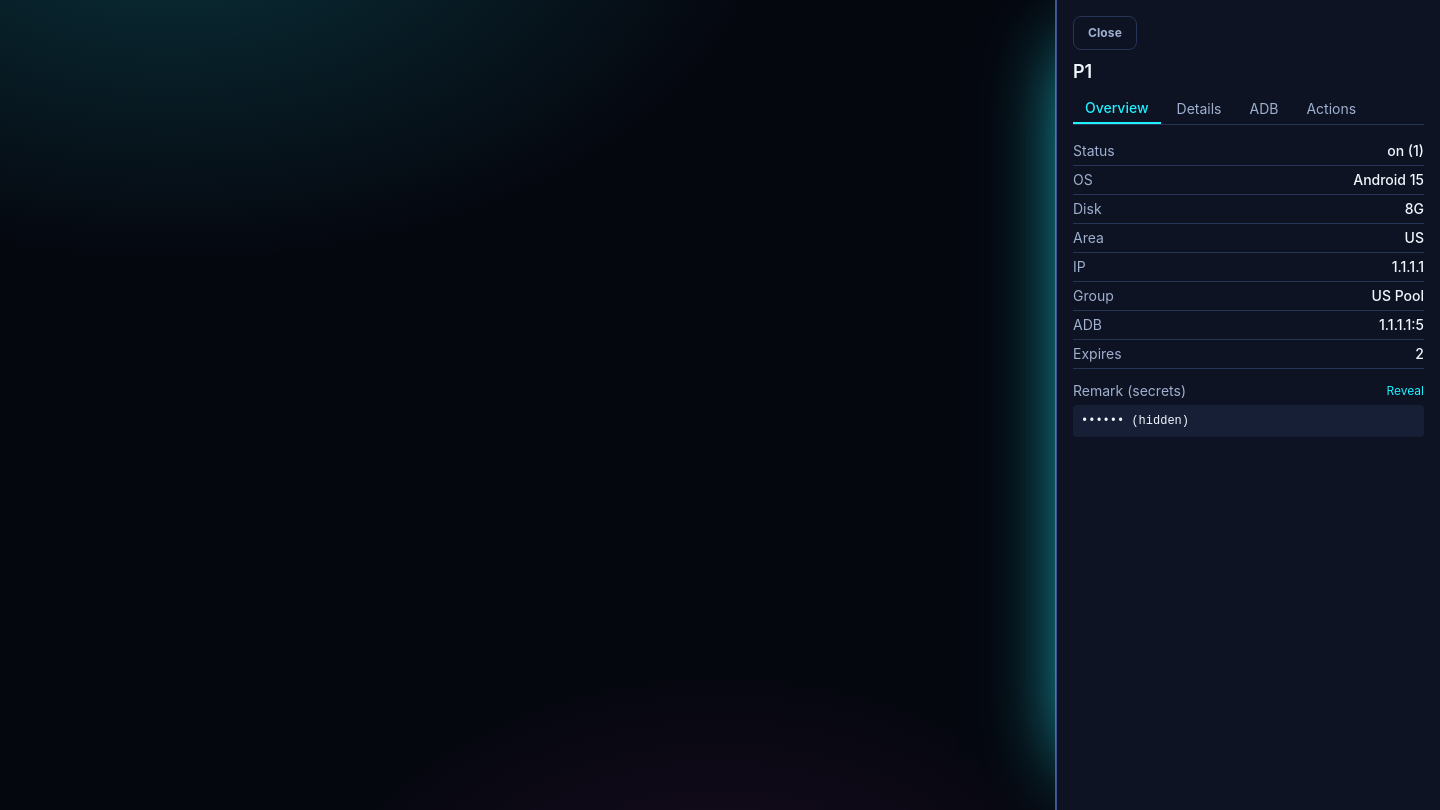
Test: DeviceDrawer › shows overview and masks remark until revealed
This screenshot has width=1440, height=810.
Expected: the heading "P1" is shown, [1073,61,1092,82]
Expected: the text "US Pool" is shown, [1372,286,1424,306]
Click the button "Reveal": (1405, 391) [1386,383,1424,399]
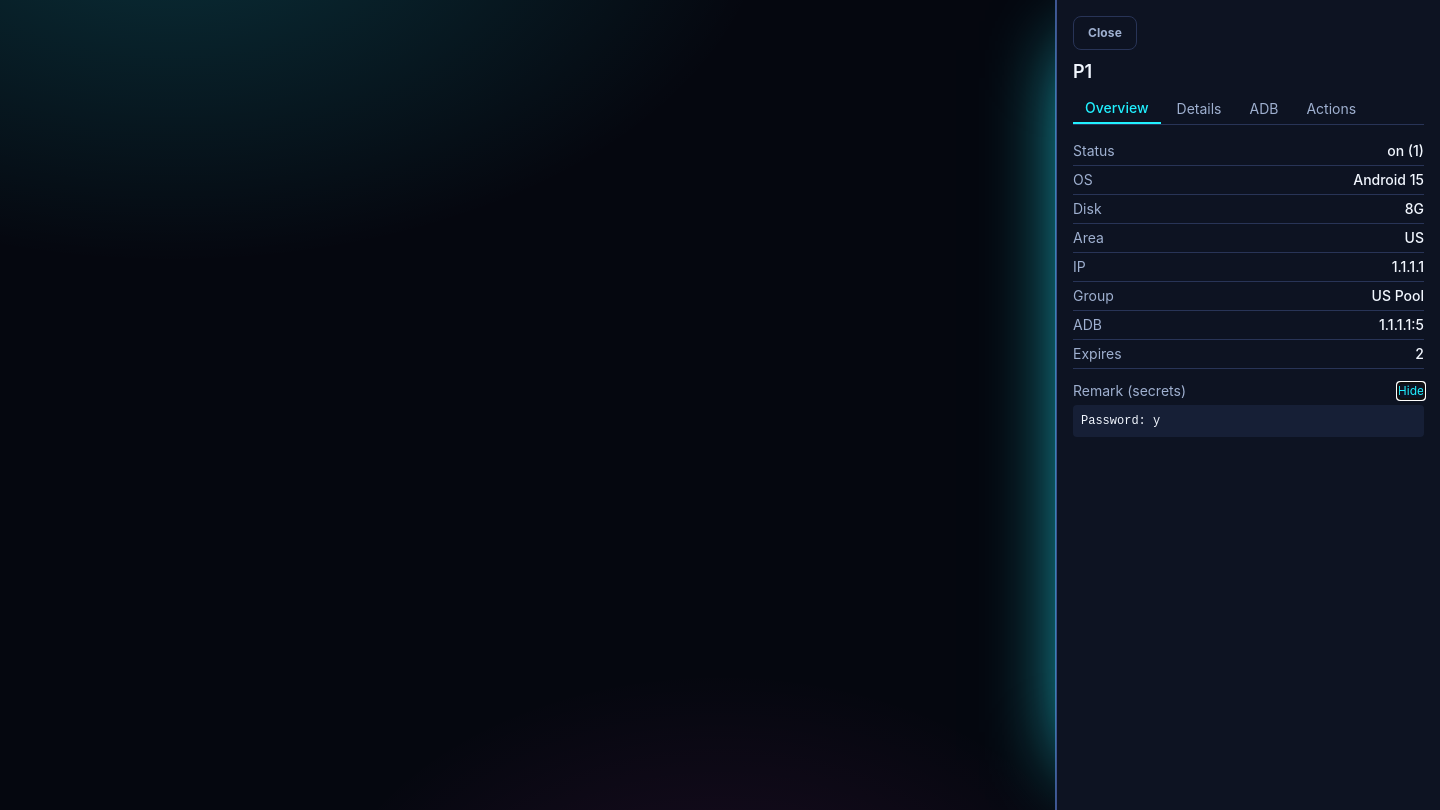
Now the text "Password: y" is shown, box [1073,405,1424,437]
